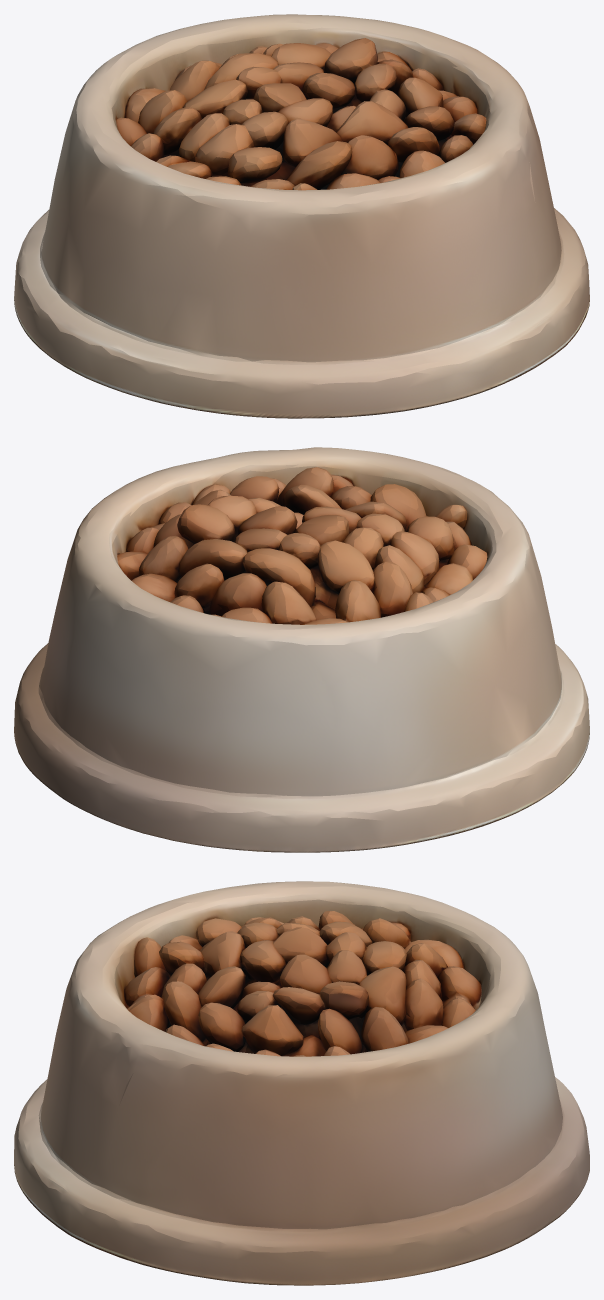
File: FoodBowl_Full.glb
3 renders of one model, top to bottom at view 1: azimuth 30°, elevation 25°; view 2: azimuth 150°, elevation 25°; view 3: azimuth 270°, elevation 25°, orthographic.
Visible parts, largest first — view 1: model; view 2: model; view 3: model.
Boxes of the visible parts, <box> form: model: <box>14,14,589,418</box>; model: <box>14,447,589,852</box>; model: <box>14,881,589,1285</box>.
Size of the model in its own units: 1.89 by 0.79 by 1.89.
Materials: 1 (1 with a texture image).
